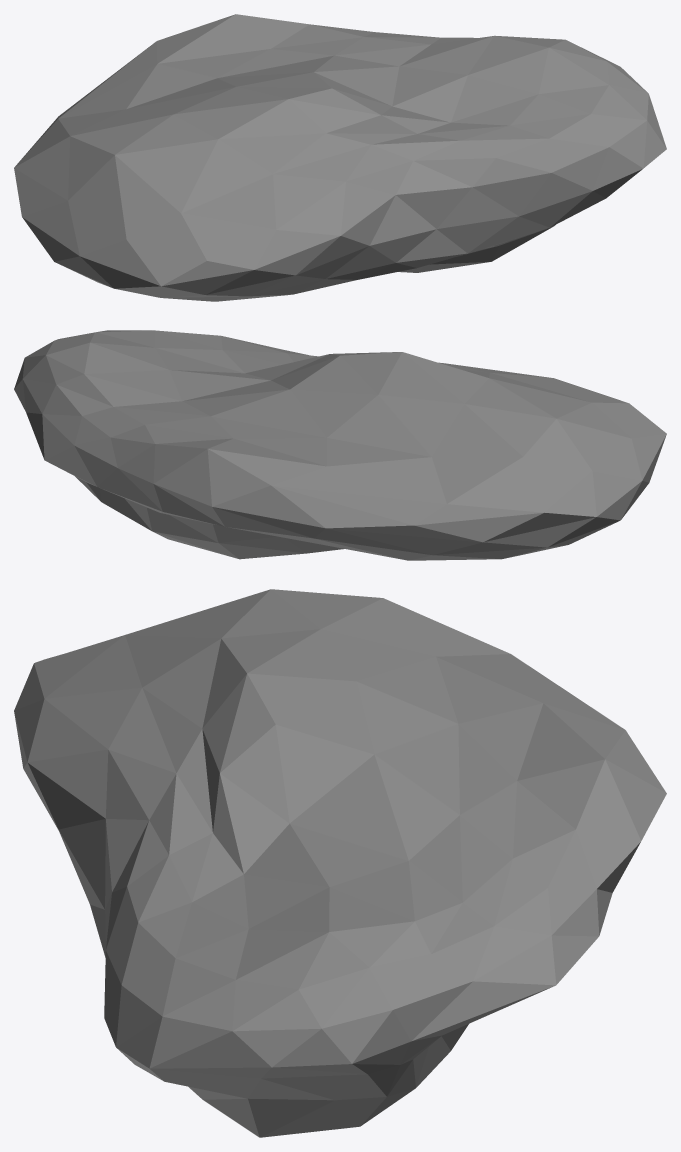
File: Rock_Large_1.glb
3 views of the same model, one above another, from view 1: azimuth 30°, elevation 25°; view 2: azimuth 150°, elevation 25°; view 3: azimuth 270°, elevation 25° (orthographic). The views are drawn at different scales.
Visible parts, largest first — view 1: Rock_Large_1; view 2: Rock_Large_1; view 3: Rock_Large_1.
Part boxes in pixels (x1,y1,x2,y2): Rock_Large_1: (14,14,666,301); Rock_Large_1: (14,330,666,560); Rock_Large_1: (14,589,666,1137).
Bounding box in the file's own units: 16.76 × 5.75 × 11.09.
1 material, 1 textured.
